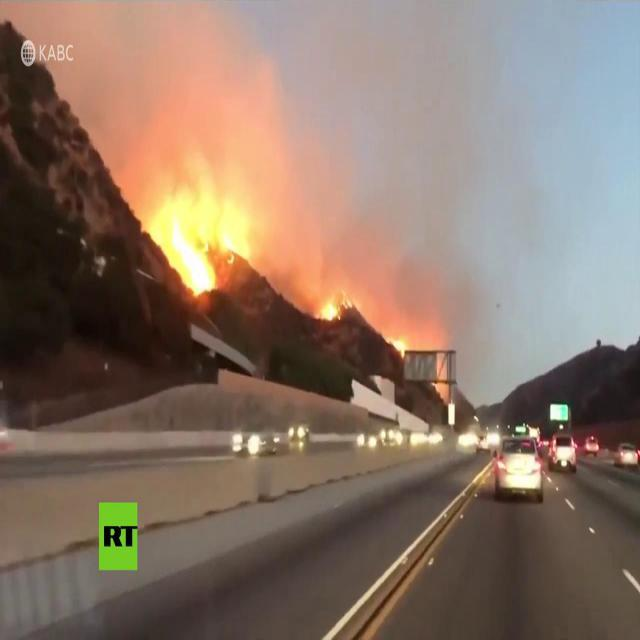Fire: (148, 194, 252, 302), (318, 290, 354, 324), (388, 335, 408, 358)
